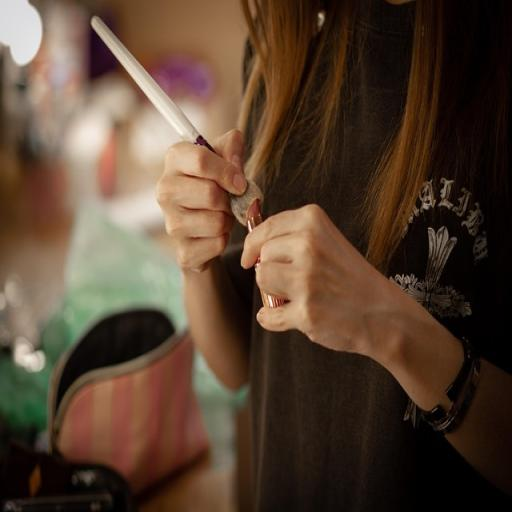lipstick: (92, 16, 214, 152), (247, 200, 263, 232)
